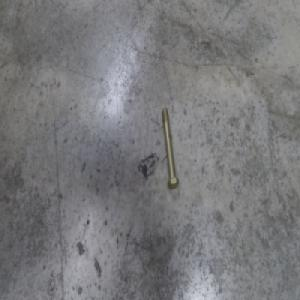Bolt: (161, 109, 177, 188)
